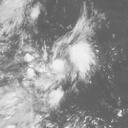cyclone: (30, 37, 94, 93)
